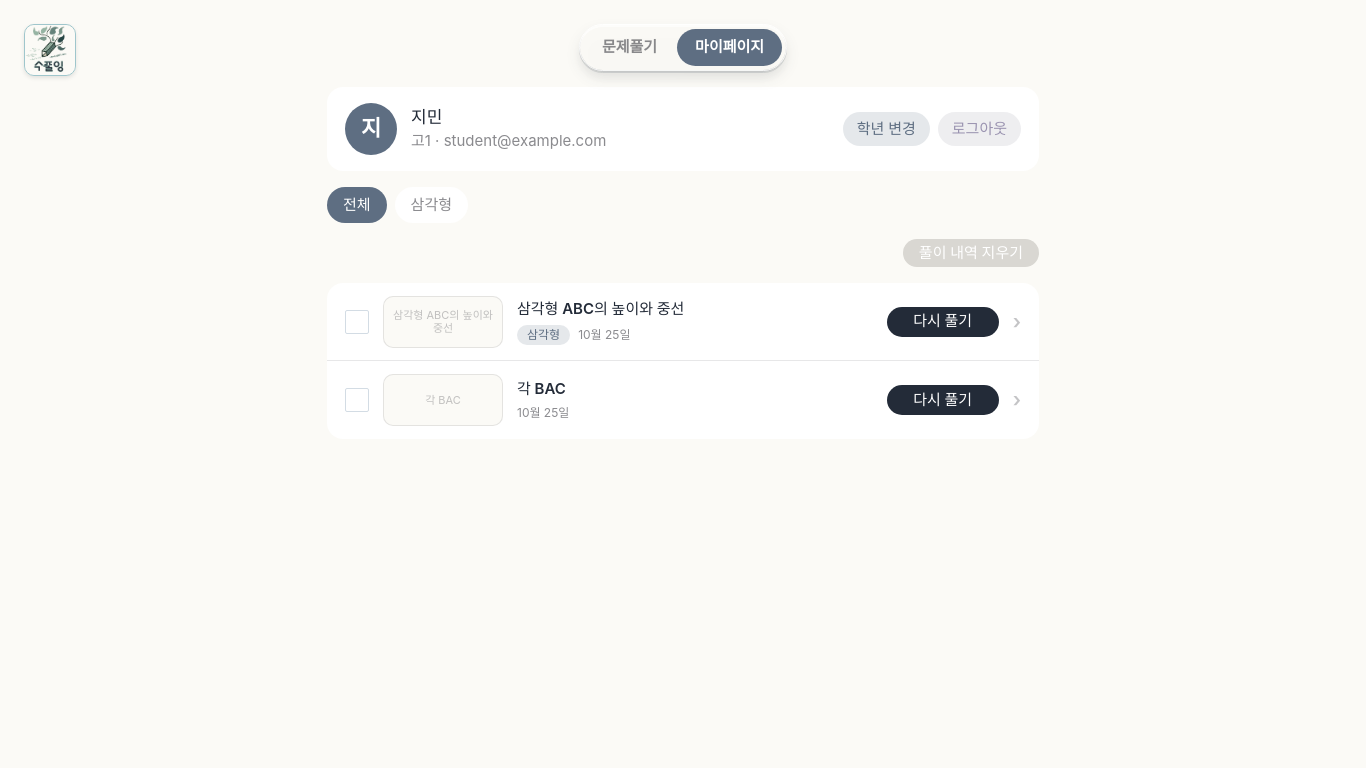
Test: 재조회 그림 › 도형이 없거나 상세 도형이 전부 변조로 거부되면 그림 카드 0(래퍼 유무는 §18.5 규칙), 보드 0
Click the button "삼각형 ABC의 높이와 중선 삼각형 ABC의 높이와 중선 삼각형 10월 25일": (443, 322) x1=383 y1=296 x2=873 y2=347
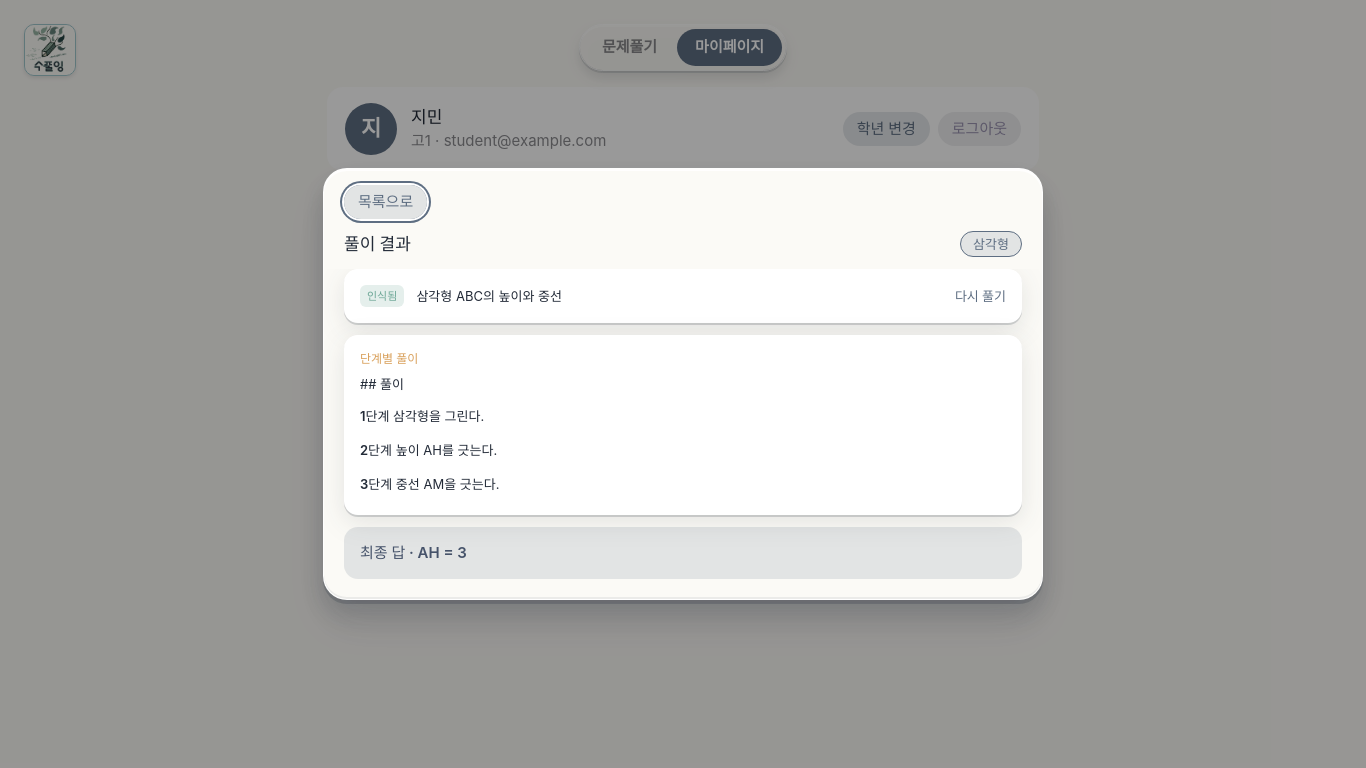
Result: the dialog shows "AH = 3" at x1=418 y1=543 x2=467 y2=562
